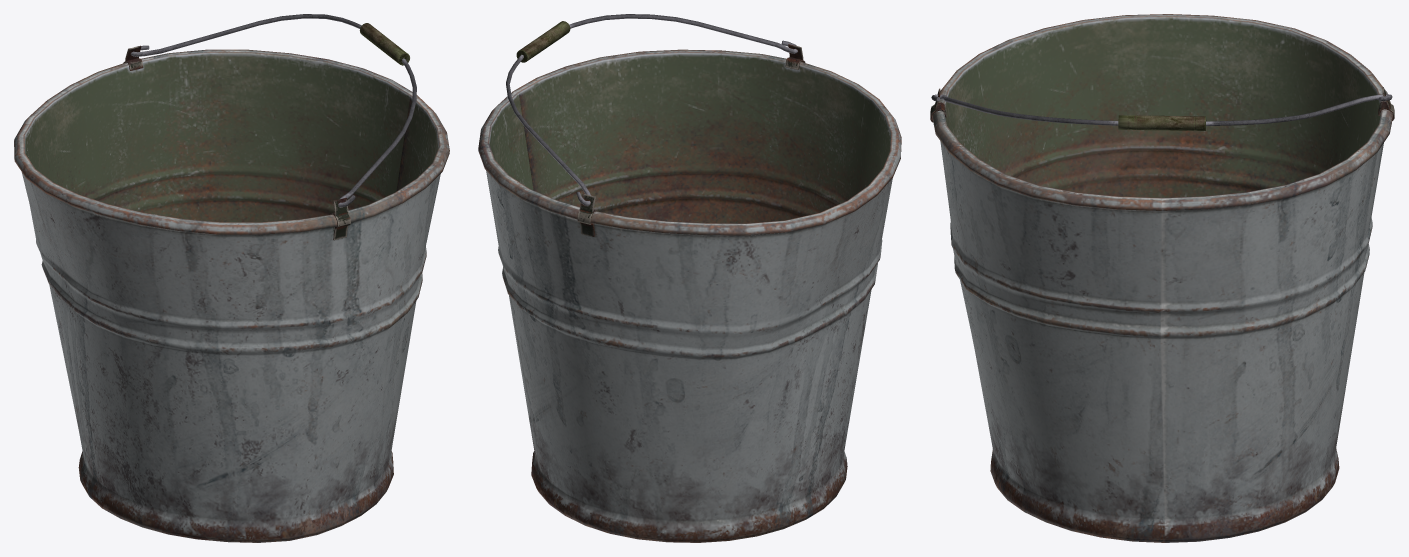
The model's file is bucket.glb.
3 renders of one model, left to right at view 1: azimuth 30°, elevation 25°; view 2: azimuth 150°, elevation 25°; view 3: azimuth 270°, elevation 25°, orthographic. The views are drawn at different scales.
Visible parts, largest first — view 1: Bucket_HP; view 2: Bucket_HP; view 3: Bucket_HP.
Boxes of the visible parts, box(x1,y1,x2,y2) form: Bucket_HP: box(14, 14, 449, 542); Bucket_HP: box(478, 14, 901, 542); Bucket_HP: box(930, 14, 1394, 542).
Bounding box in the file's own units: 1.69 × 1.76 × 1.7.
1 material, 1 textured.
